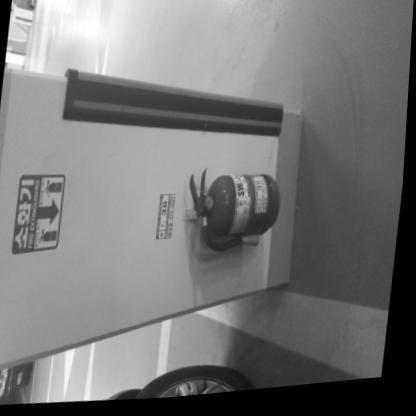FE: (184, 169, 286, 262)
